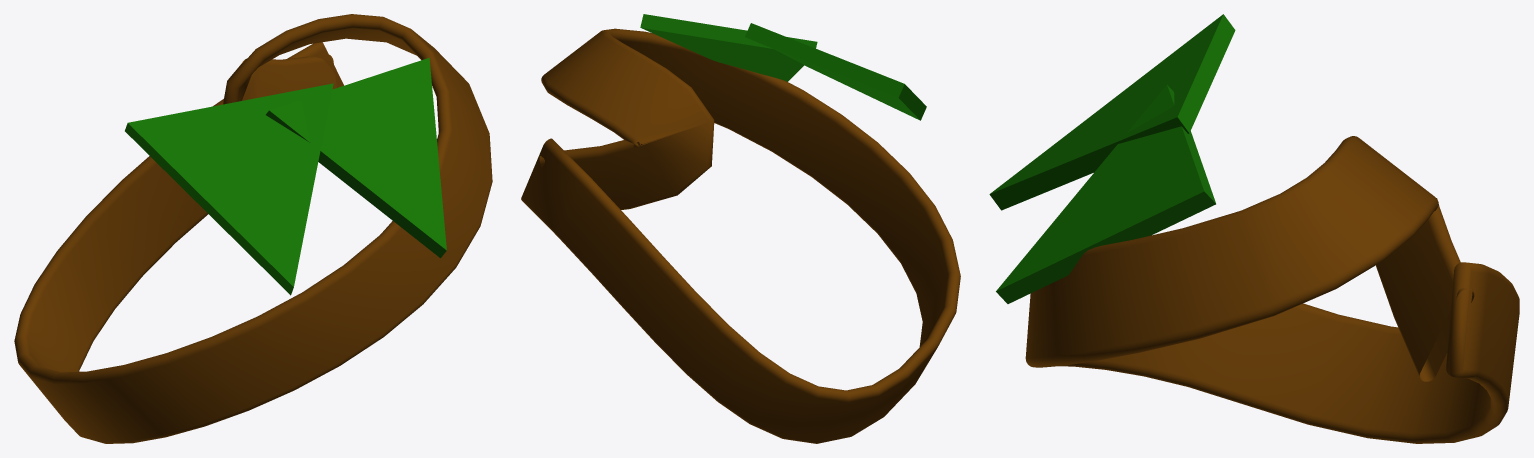
Rendered from scout.glb.
The picture shows the model from 3 angles, left to right: view 1: azimuth 30°, elevation 25°; view 2: azimuth 150°, elevation 25°; view 3: azimuth 270°, elevation 25°; orthographic projection. The views are drawn at different scales.
Visible parts, largest first — view 1: scoutBelt, scoutScarf1, scoutScarf2; view 2: scoutBelt, scoutScarf2, scoutScarf1; view 3: scoutBelt, scoutScarf2, scoutScarf1.
Part boxes in pixels (x1,y1,x2,y2): scoutBelt: (14,14,492,443); scoutScarf1: (125,83,333,295); scoutScarf2: (266,57,446,258); scoutBelt: (521,28,960,443); scoutScarf2: (640,14,817,81); scoutScarf1: (745,23,926,120); scoutBelt: (1025,136,1519,443); scoutScarf2: (996,85,1215,303); scoutScarf1: (989,14,1235,210).
Size of the model in its own units: 0.6375 by 0.5186 by 0.5718.
